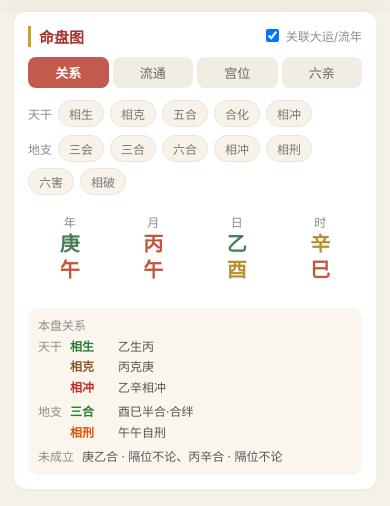
Test case: 流通 tab › shows gan/zhi flow arrows with types and text labels
This screenshot has width=390, height=506.
Click the button with test id "tab-liutong": (153, 72) [112,57,193,88]
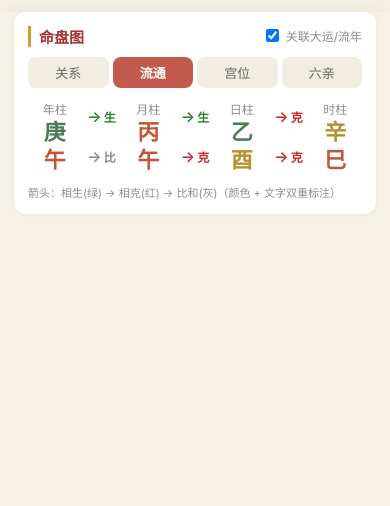
Result: the element with test id "arrow-gan-year-month" is shown at [87,107,116,126]
Result: the element with test id "arrow-gan-year-month" shows "生" at [104,110,116,125]
